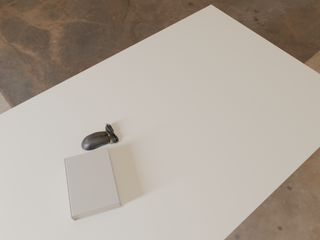book: (64, 148, 121, 221)
mouse: (81, 124, 118, 150)
